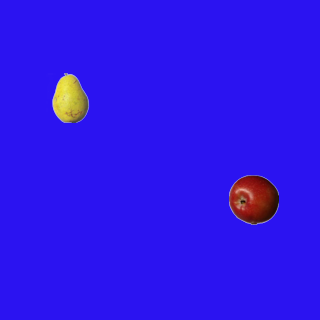Apple Braeburn: (228, 174, 278, 224)
Pear Monster: (45, 72, 95, 122)
